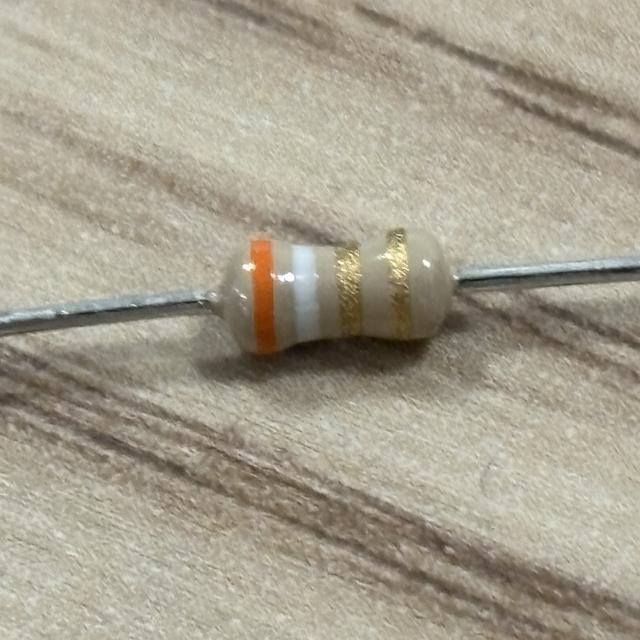resistor: (231, 226, 449, 357)
